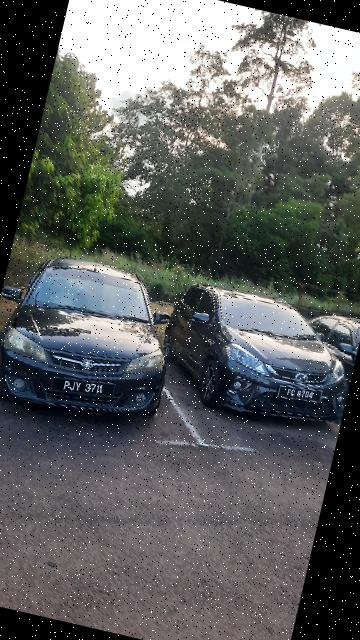License_Plate: (50, 372, 127, 407), (277, 381, 328, 410)
car: (1, 244, 189, 440), (151, 273, 360, 440)
